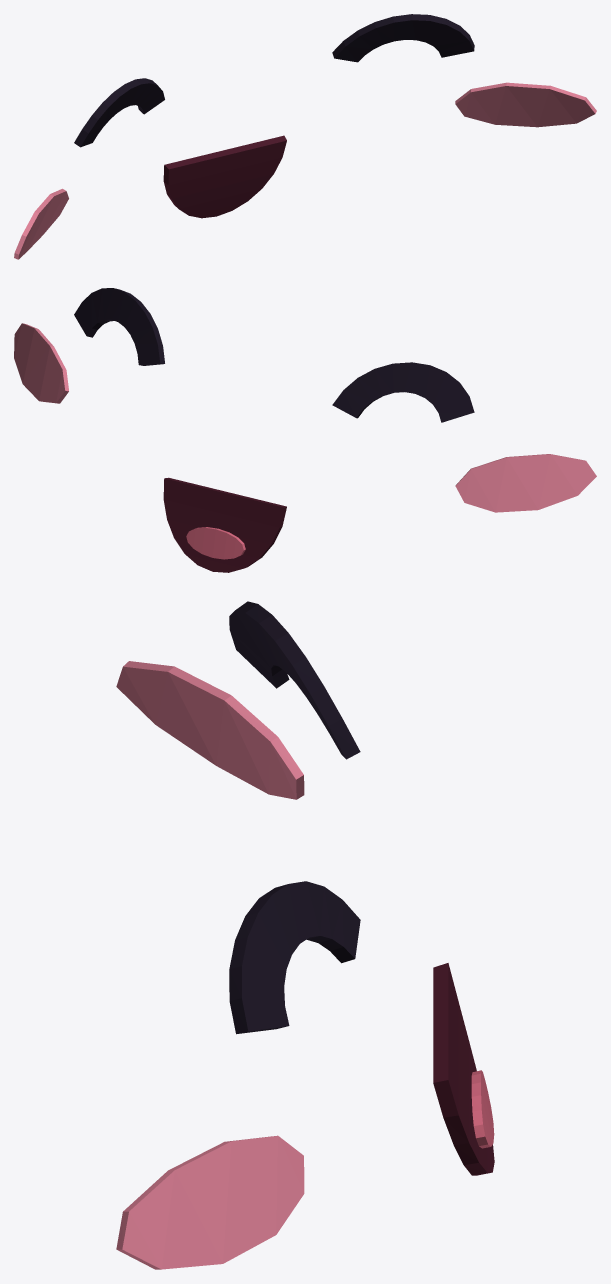
The model's file is slime_face_happy.fbx.
3 renders of one model, top to bottom at view 1: azimuth 30°, elevation 25°; view 2: azimuth 150°, elevation 25°; view 3: azimuth 270°, elevation 25°, orthographic. The views are drawn at different scales.
Parts seen in each view (by area): view 1: slime_face_happy; view 2: slime_face_happy; view 3: slime_face_happy.
Boxes of the visible parts, x1,y1,x2,y2 form: slime_face_happy: (14, 14, 596, 259); slime_face_happy: (14, 288, 596, 572); slime_face_happy: (116, 601, 494, 1269).
Bounding box in the file's own units: 2.1 × 0.7069 × 0.5902.
